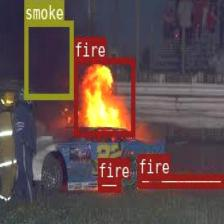fire: (74, 56, 134, 136), (138, 174, 224, 186), (98, 178, 119, 191)
smoke: (23, 20, 73, 98)
